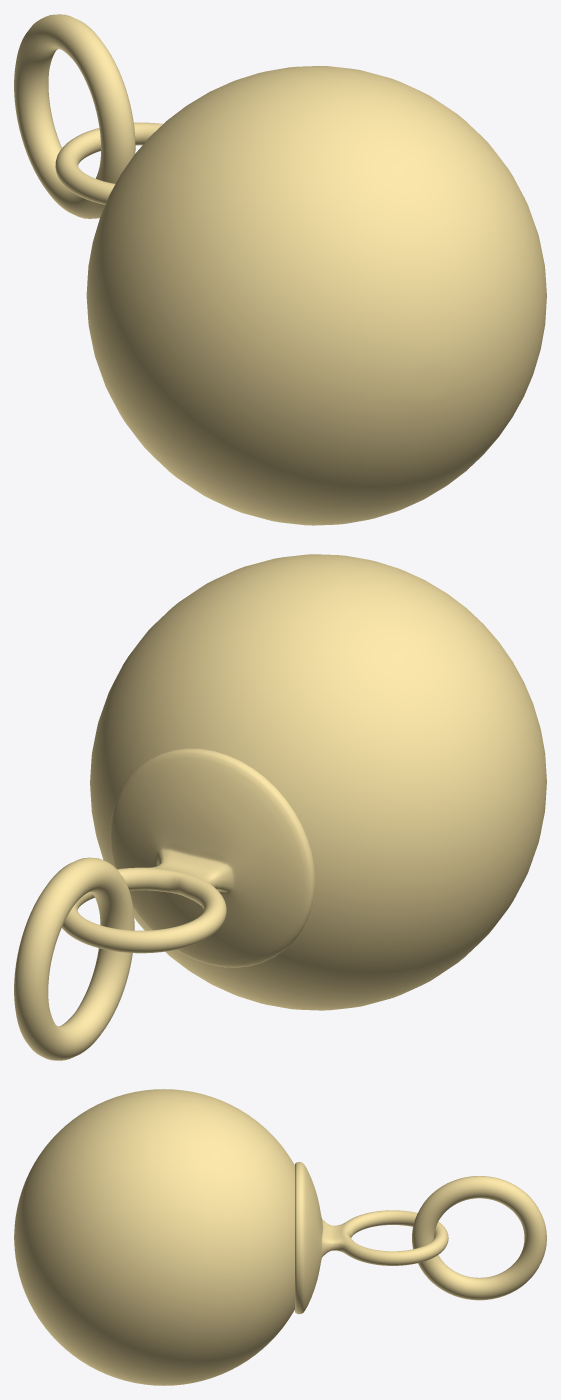
The model's file is Classic_Charm_8mm.glb.
The picture shows the model from 3 angles, top to bottom: view 1: azimuth 30°, elevation 25°; view 2: azimuth 150°, elevation 25°; view 3: azimuth 270°, elevation 25°; orthographic projection. The views are drawn at different scales.
Visible parts, largest first — view 1: Classic_Charm_8mm_Ball; view 2: Classic_Charm_8mm_Ball; view 3: Classic_Charm_8mm_Ball.
Boxes of the visible parts, left/top/right/bottom form: Classic_Charm_8mm_Ball: left=14, top=14, right=546, bottom=525; Classic_Charm_8mm_Ball: left=14, top=554, right=546, bottom=1060; Classic_Charm_8mm_Ball: left=14, top=1089, right=546, bottom=1385.
Bounding box in the file's own units: 0.00791 × 0.00791 × 0.0142.
